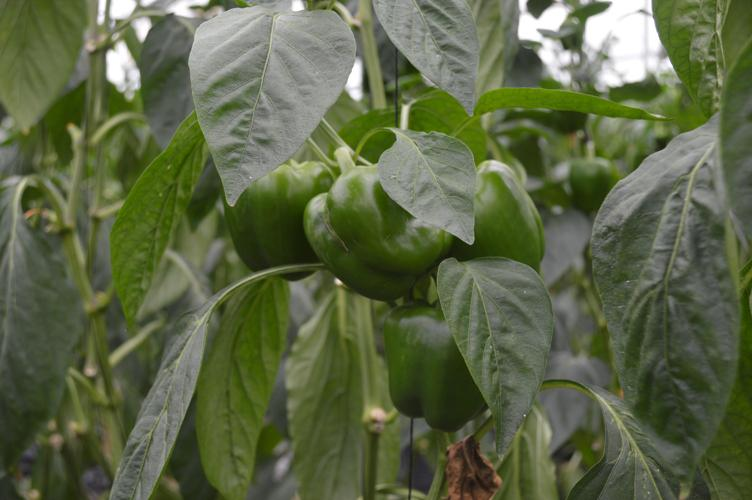BellPepper: (302, 152, 445, 300), (209, 152, 337, 289), (377, 303, 491, 445), (449, 163, 552, 282)
